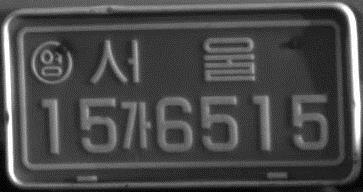1: (35, 95, 63, 158), (249, 93, 277, 153)
5: (75, 96, 118, 153), (289, 93, 331, 151), (197, 94, 238, 153)
6: (154, 94, 194, 154)
가: (118, 98, 152, 150)
서울_D: (87, 33, 259, 87)
영: (31, 38, 74, 87)
